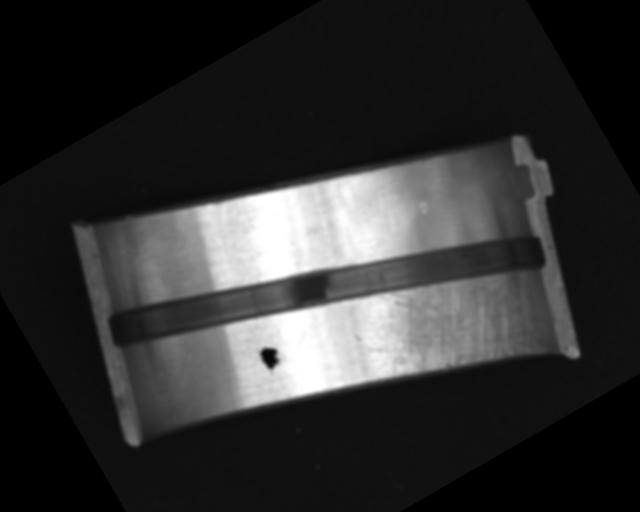blot: (254, 340, 289, 377)
bruise: (416, 199, 431, 217)
gap: (99, 112, 549, 472)
nick: (206, 237, 244, 288)
scratch: (341, 230, 547, 425)
